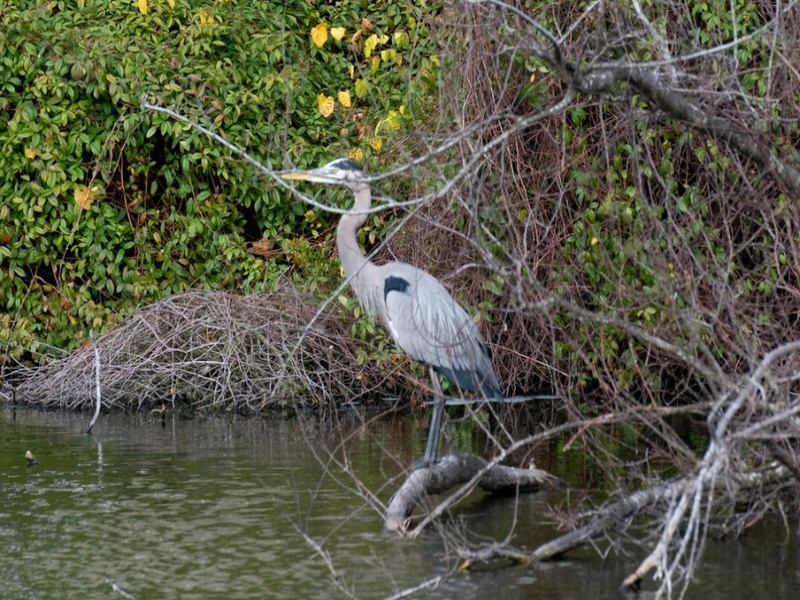heron: (281, 157, 501, 475)
